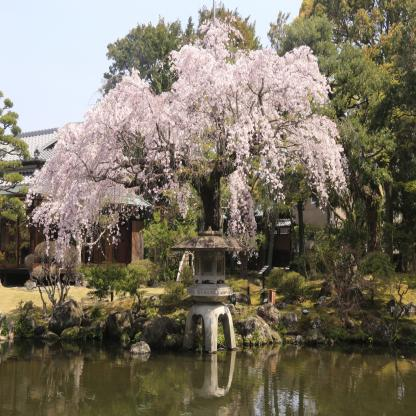ShidareZakura: (23, 19, 350, 277)
